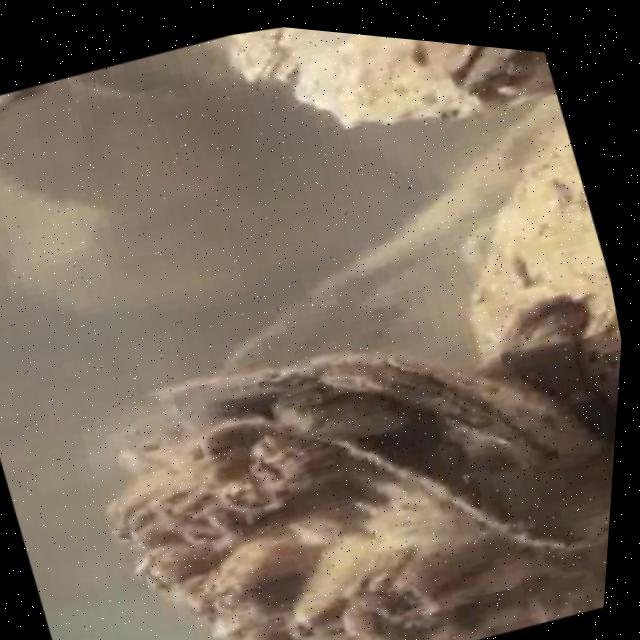Oyster-Closed: (499, 298, 616, 438), (215, 27, 288, 88), (0, 89, 20, 117)
Oyster-Indeterminate: (465, 131, 621, 398), (297, 29, 473, 127)
Oyster-Open: (101, 351, 607, 640), (463, 46, 553, 100)
